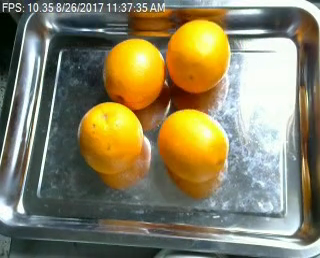Orange: (159, 108, 229, 181), (77, 102, 143, 173), (167, 18, 230, 92), (101, 39, 164, 110)
